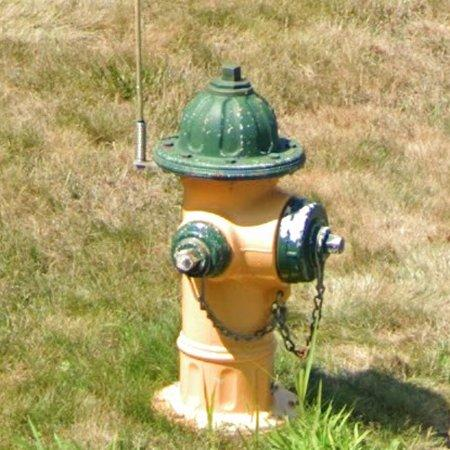a fire hydrant: (155, 66, 345, 431)
